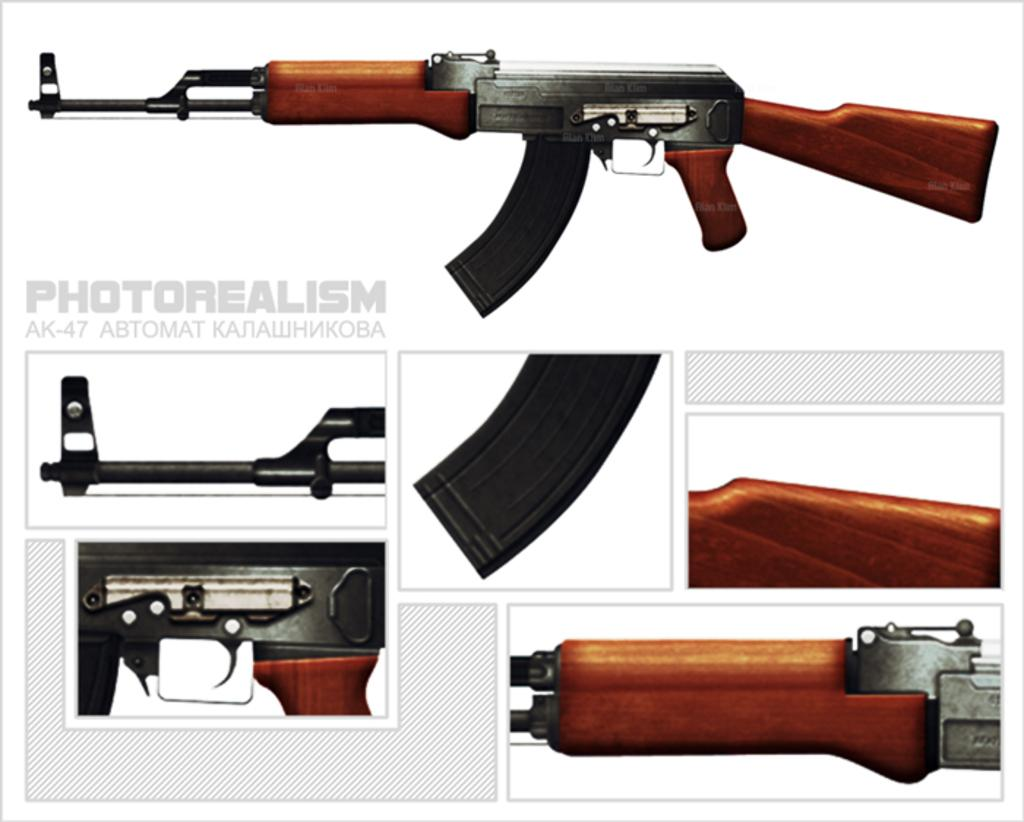Shotgun: (25, 50, 995, 316), (506, 611, 999, 788), (408, 348, 661, 584), (75, 538, 388, 717), (34, 372, 385, 502), (688, 471, 1001, 589)
